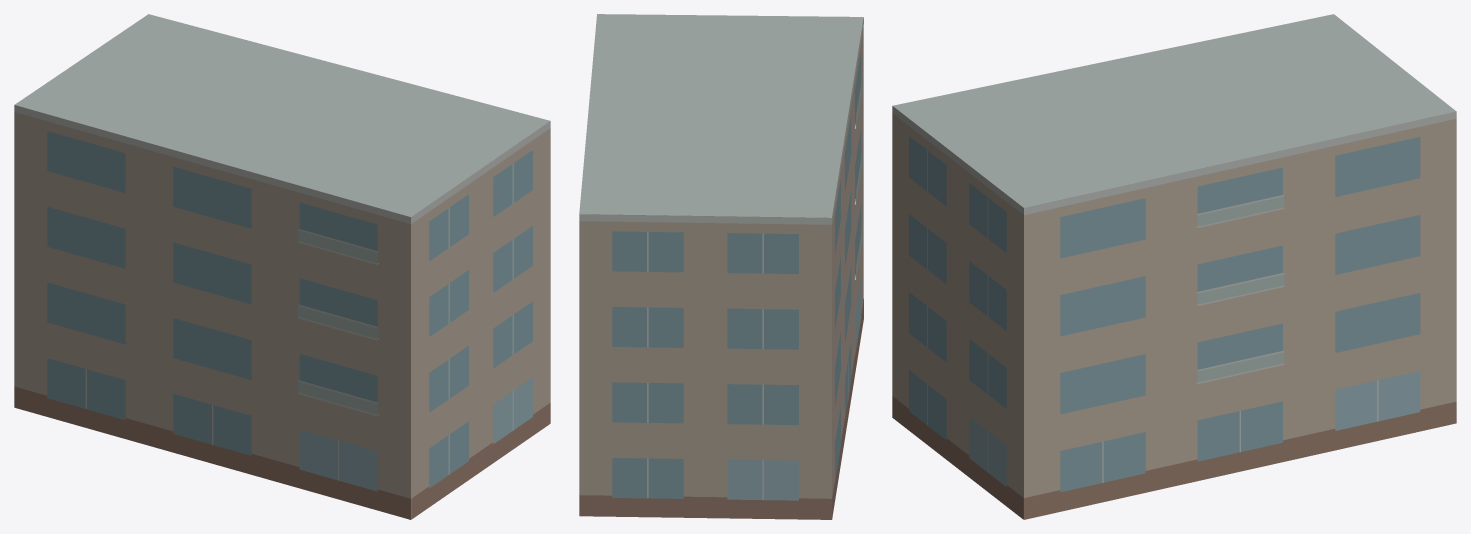
Rendered from survey-upis-32948658.glb.
The picture shows the model from 3 angles, left to right: view 1: azimuth 30°, elevation 25°; view 2: azimuth 150°, elevation 25°; view 3: azimuth 270°, elevation 25°; orthographic projection. The views are drawn at different scales.
Visible parts, largest first — view 1: survey-upis-32948658.tmp; view 2: survey-upis-32948658.tmp; view 3: survey-upis-32948658.tmp.
Part boxes in pixels (x1=…): survey-upis-32948658.tmp: x1=14, y1=14, x2=550, y2=519; survey-upis-32948658.tmp: x1=579, y1=14, x2=863, y2=519; survey-upis-32948658.tmp: x1=892, y1=14, x2=1456, y2=519.
Bounding box in the file's own units: 14.02 × 10.5 × 17.23.
